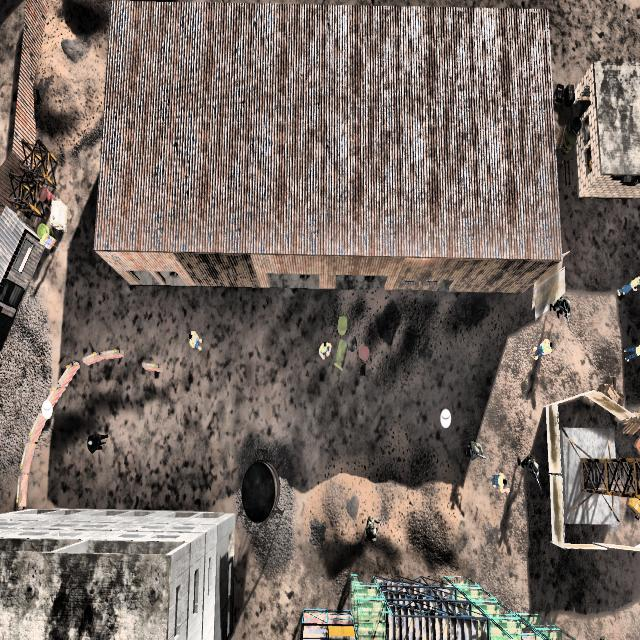bad: (461, 426, 488, 478), (359, 507, 385, 553), (514, 451, 544, 484), (84, 424, 110, 458), (551, 291, 575, 326)
good: (486, 463, 511, 505), (527, 335, 557, 365), (617, 330, 640, 369), (615, 271, 640, 306), (186, 322, 205, 358), (316, 332, 333, 370)
